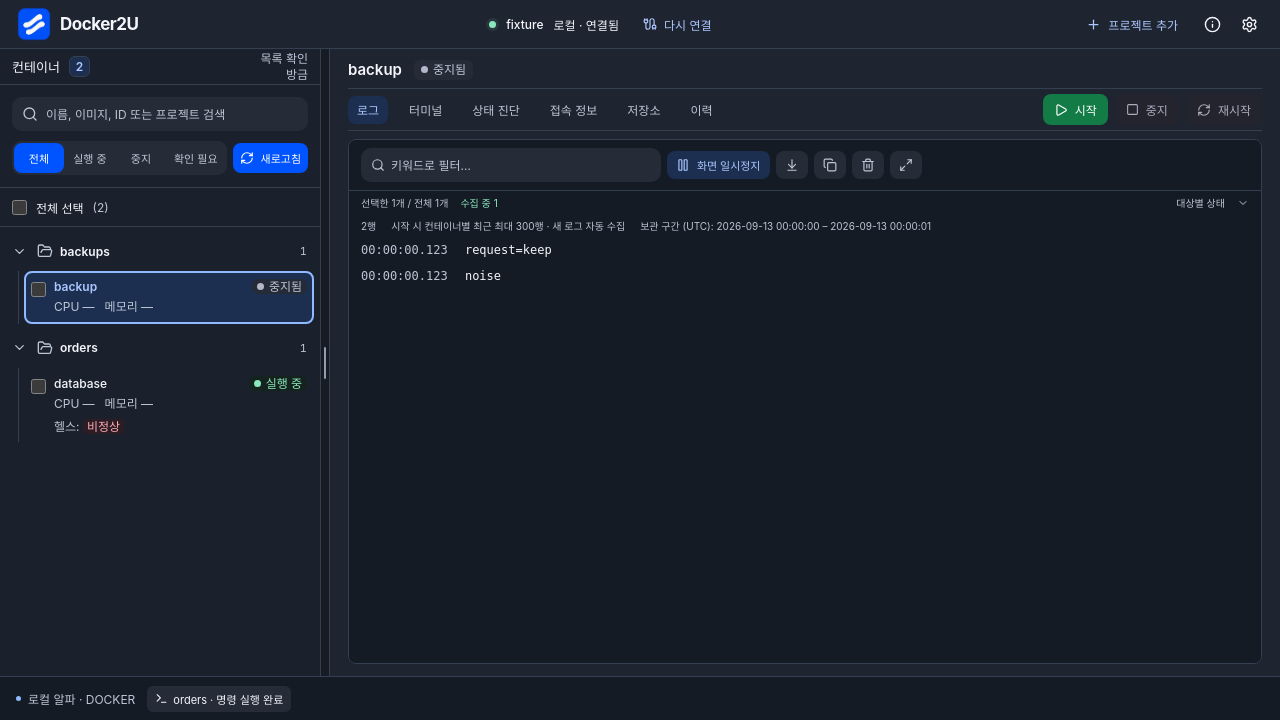
Test: navigates from Compose progress to the actual container diagnostics tab and transfers focus
Expected: the list item with aria-label "database 상세" is shown, left=24, top=368, right=314, bottom=442
Expected: the button "새로고침" is enabled, left=232, top=143, right=308, bottom=173
Click the list item with aria-label "backup 상세".
click(169, 297)  # box left=24, top=271, right=314, bottom=324
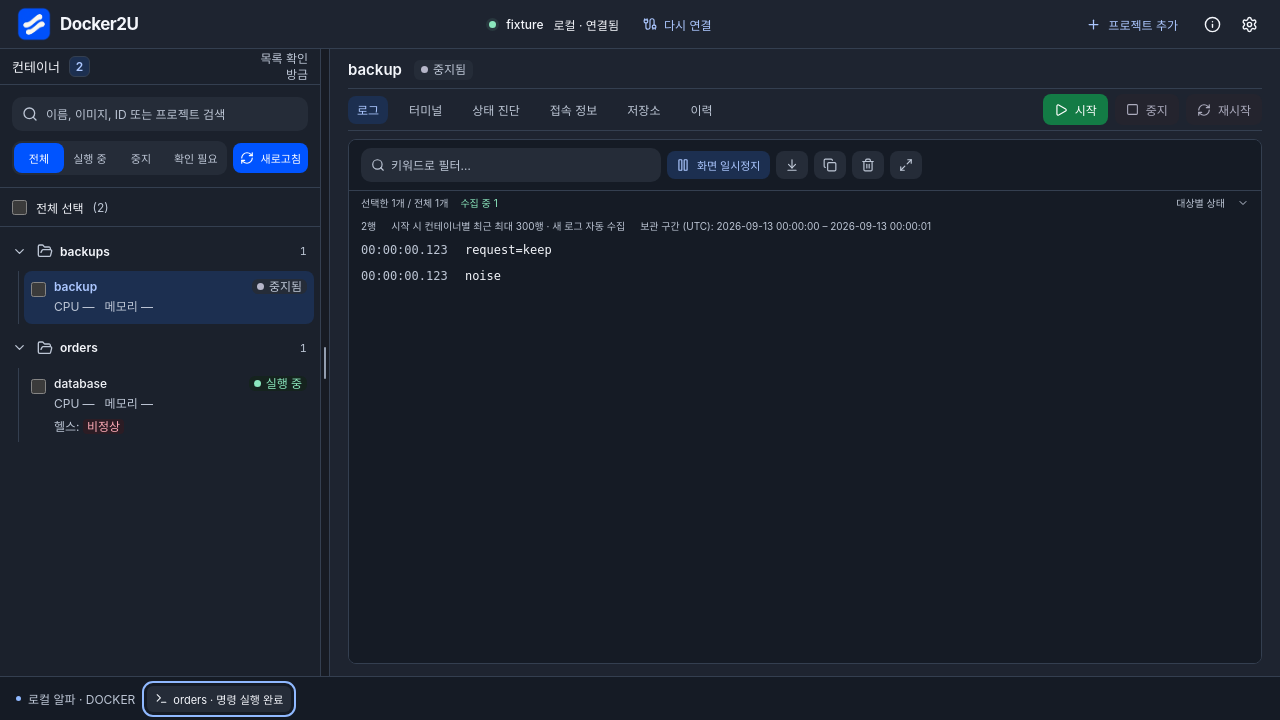
Click the button with aria-label "최근 프로젝트 작업".
click(219, 698)  # box left=147, top=686, right=291, bottom=712
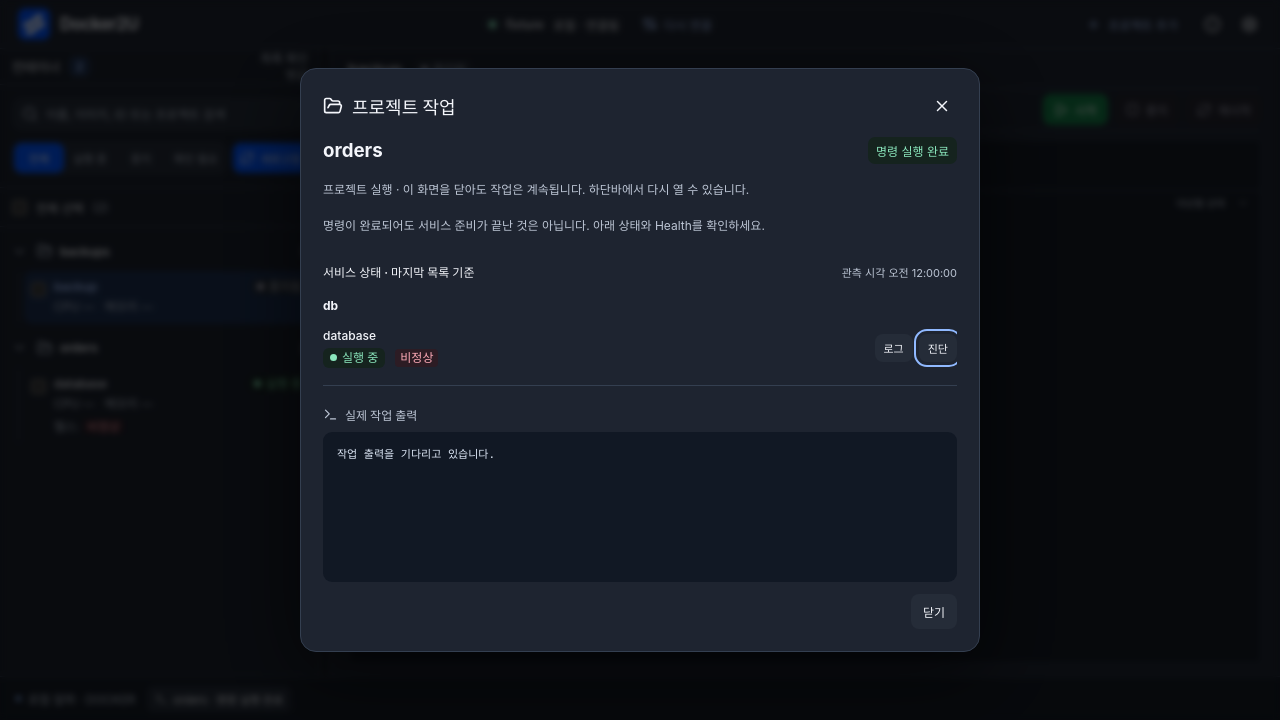
Expected: the message reads "명령 실행 완료", left=876, top=144, right=949, bottom=159
Expected: the text "비정상" is shown, left=395, top=349, right=438, bottom=367
Click the button with aria-label "database 진단 보기".
click(938, 348)  # box left=919, top=334, right=957, bottom=362
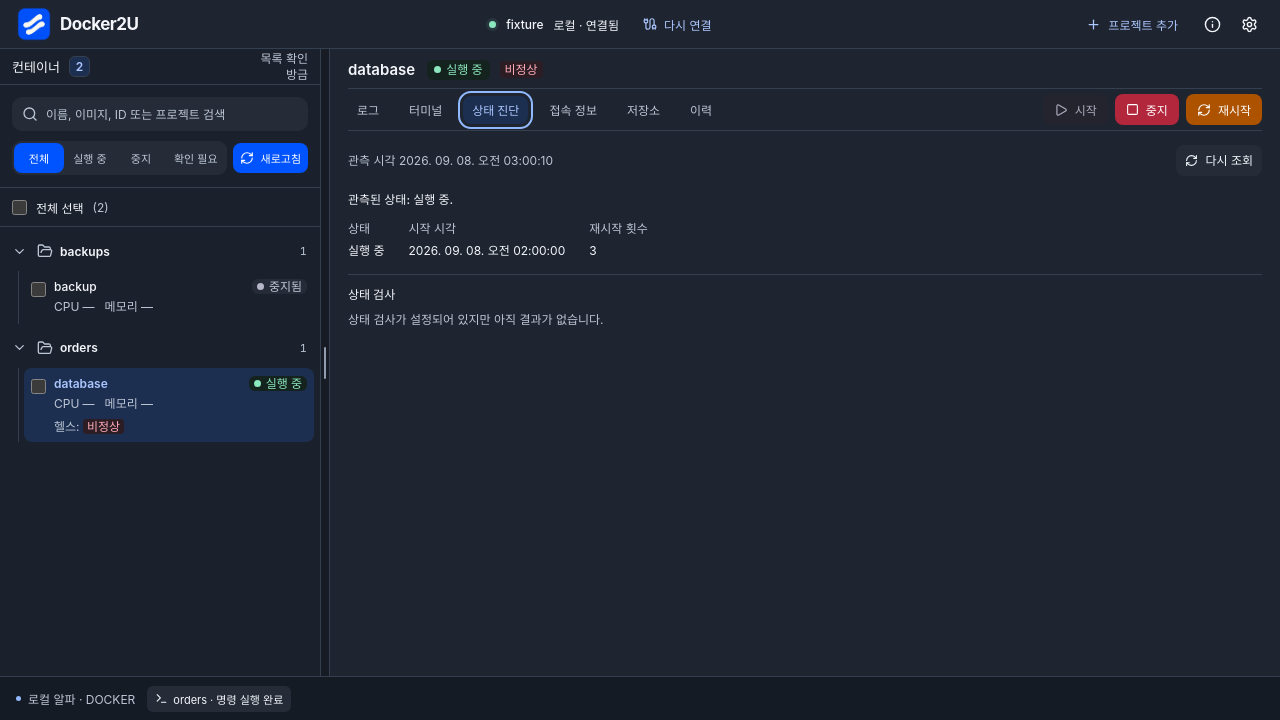
Expected: the heading "프로젝트 작업" is gone
